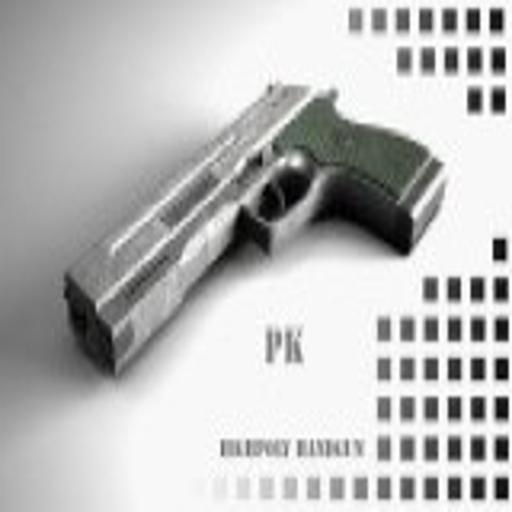Handgun: (56, 71, 447, 383)
